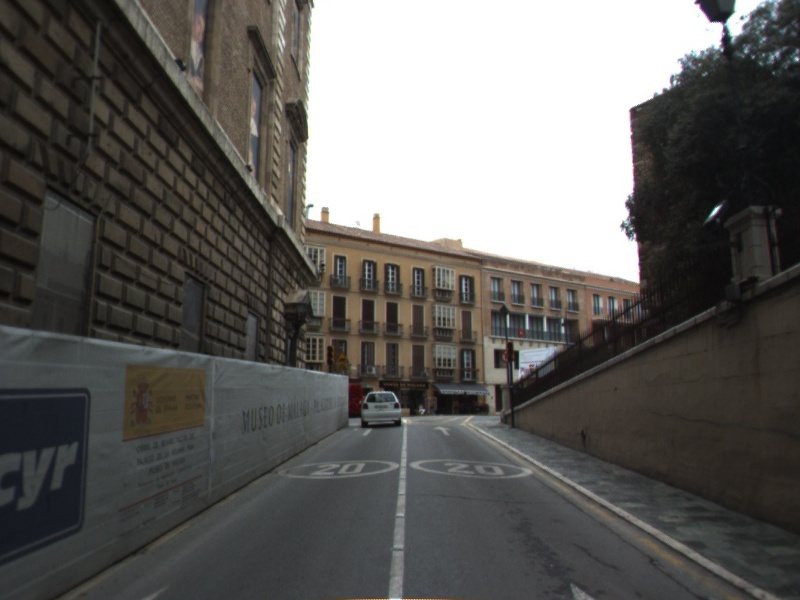LEFT: (352, 425, 375, 438)
STRAIGHT: (431, 423, 455, 437)
